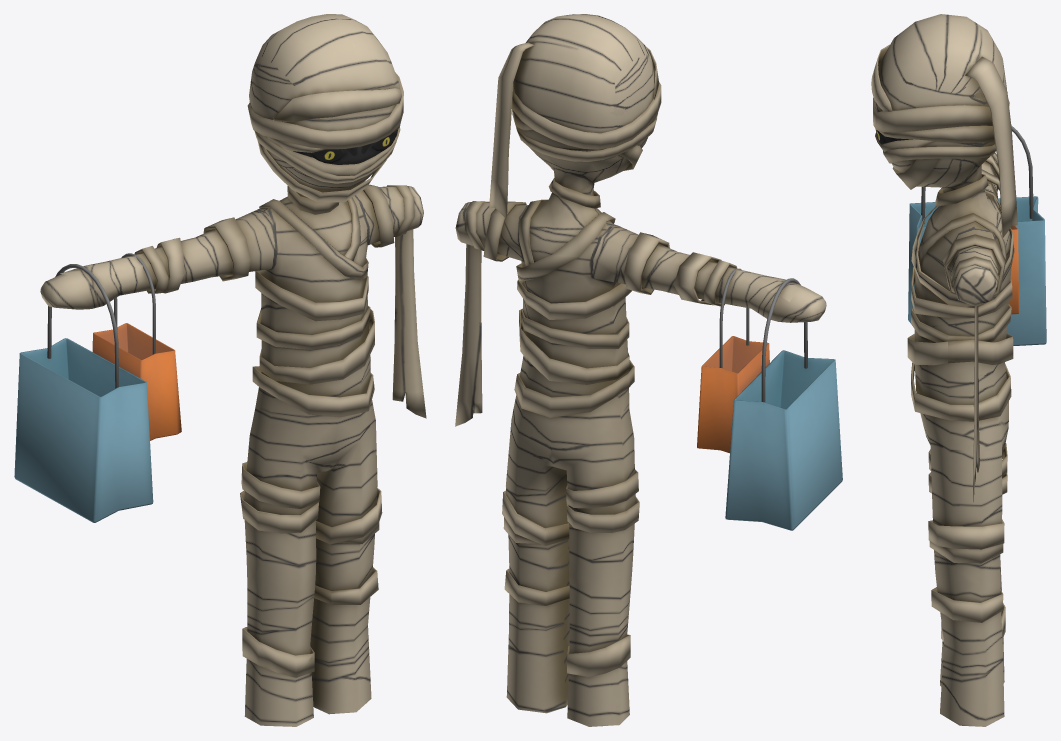
File: Mummy_Shopping Bag_Revised.fbx
3 views of the same model, side by side, from view 1: azimuth 30°, elevation 25°; view 2: azimuth 150°, elevation 25°; view 3: azimuth 270°, elevation 25° (orthographic). The views are drawn at different scales.
Parts seen in each view (by area): view 1: Mummy_Shopping Bag; view 2: Mummy_Shopping Bag; view 3: Mummy_Shopping Bag.
Boxes of the visible parts, bbox=[...] form: Mummy_Shopping Bag: bbox=[14, 14, 426, 726]; Mummy_Shopping Bag: bbox=[455, 14, 842, 726]; Mummy_Shopping Bag: bbox=[871, 14, 1046, 726].
Bounding box in the file's own units: 123 × 215 × 50.44.
